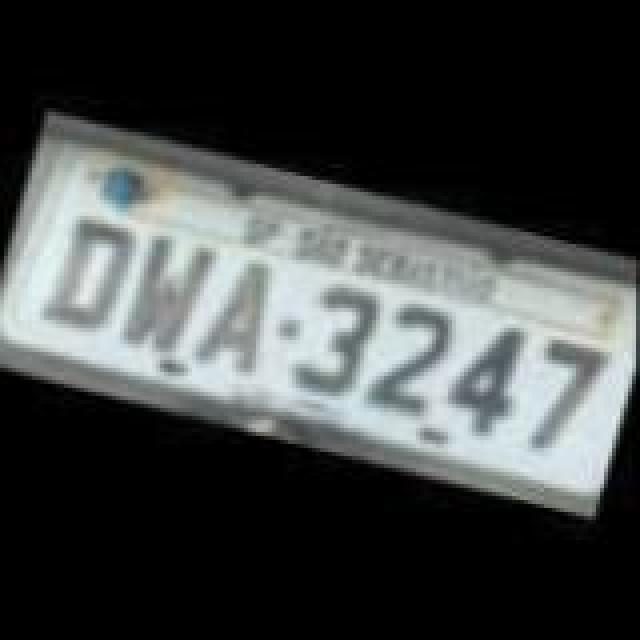2: (360, 294, 460, 422)
3: (282, 276, 386, 404)
4: (430, 306, 538, 446)
7: (510, 330, 618, 466)
A: (186, 248, 290, 384)
D: (32, 206, 140, 342)
W: (110, 226, 222, 366)
